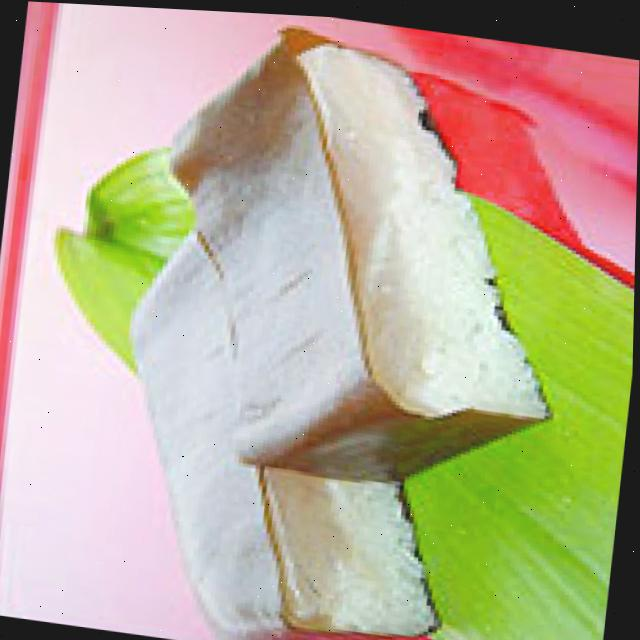寿司卷物: (80, 4, 601, 640)
